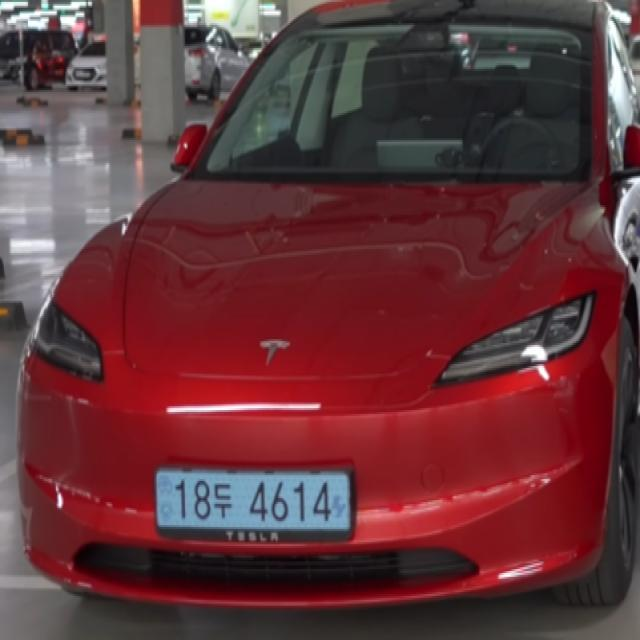car: (146, 454, 367, 552)
carev: (329, 468, 355, 537), (154, 466, 178, 533)
